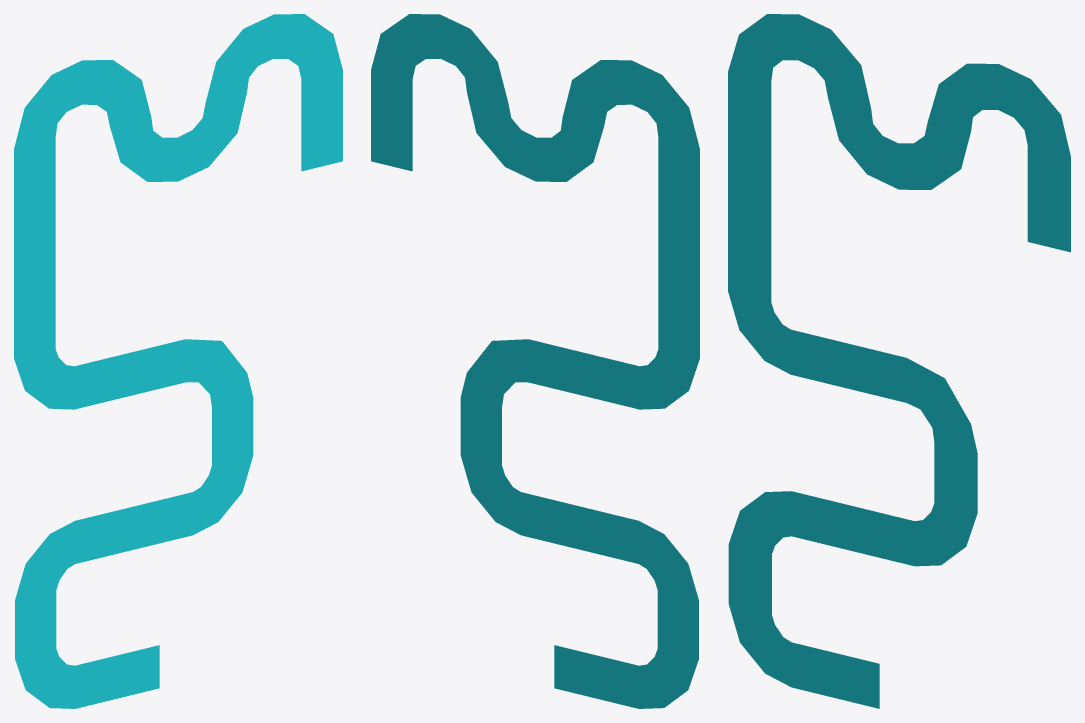
The model's file is Earth_EarthCourse.fbx.
3 renders of one model, left to right at view 1: azimuth 30°, elevation 25°; view 2: azimuth 150°, elevation 25°; view 3: azimuth 330°, elevation 25°, orthographic. The views are drawn at different scales.
Parts seen in each view (by area): view 1: 平面.001; view 2: 平面.001; view 3: 平面.001.
Boxes of the visible parts, x1,y1,x2,y2 form: 平面.001: [14, 14, 342, 708]; 平面.001: [371, 14, 699, 708]; 平面.001: [728, 14, 1070, 708].
Size of the model in its own units: 47.36 by 89.08 by 3.16e-05.
